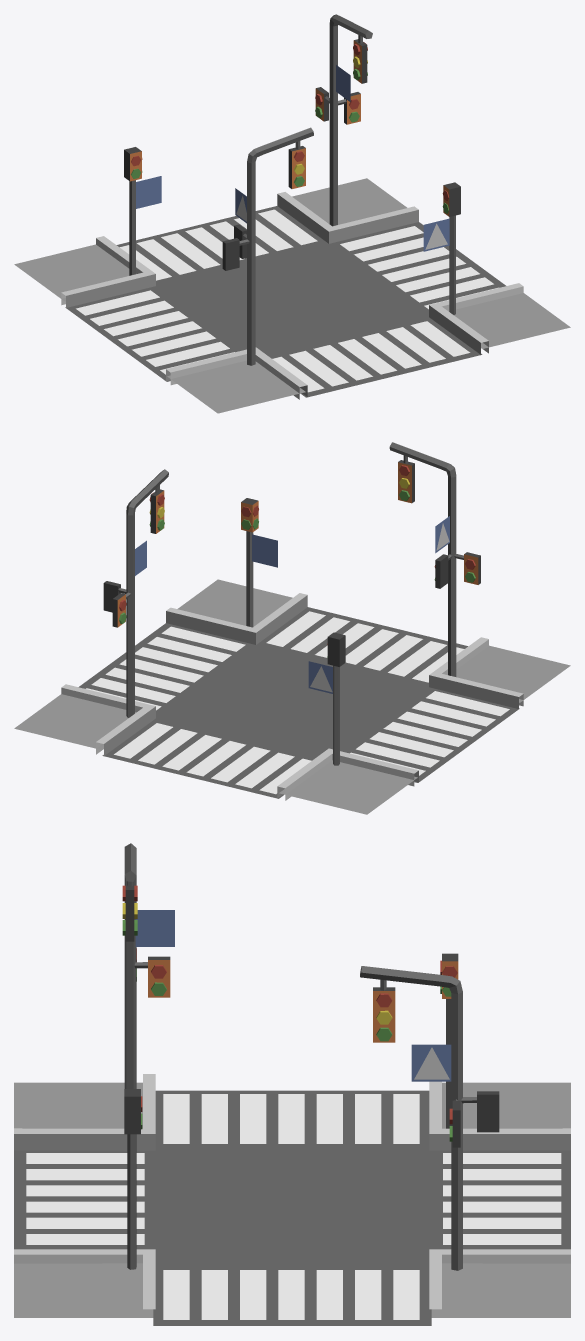
The model's file is road_tile_1x1_004.fbx.
3 views of the same model, one above another, from view 1: azimuth 30°, elevation 25°; view 2: azimuth 150°, elevation 25°; view 3: azimuth 270°, elevation 25° (orthographic). The views are drawn at different scales.
Parts seen in each view (by area): view 1: road_tile_1x1_004; view 2: road_tile_1x1_004; view 3: road_tile_1x1_004.
Boxes of the visible parts, x1=… form: road_tile_1x1_004: x1=14, y1=14, x2=570, y2=413; road_tile_1x1_004: x1=14, y1=442, x2=570, y2=814; road_tile_1x1_004: x1=14, y1=843, x2=570, y2=1325.
Bounding box in the file's own units: 800 × 494 × 800.
